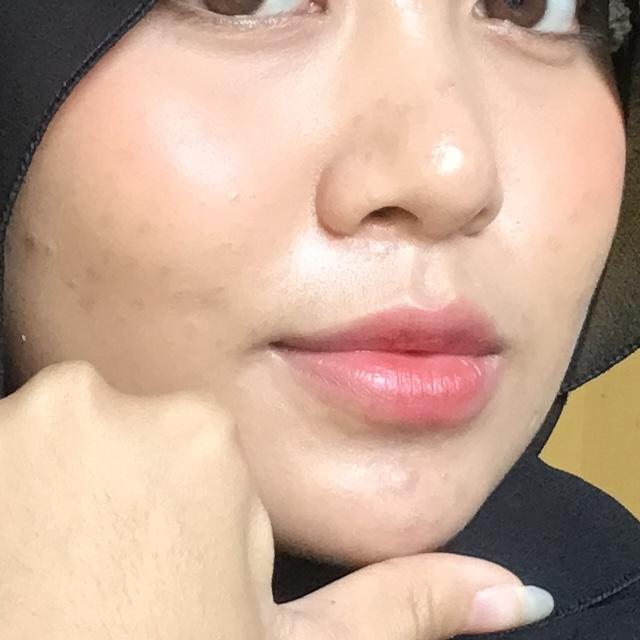telpon: (0, 136, 530, 640)
